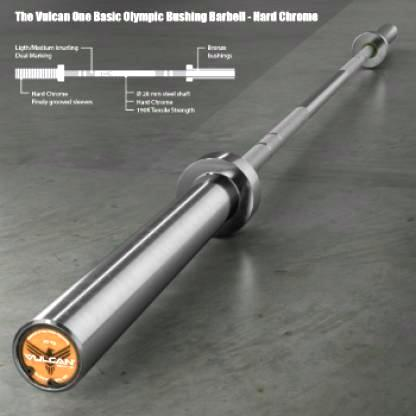Barbell: (8, 302, 96, 403)
